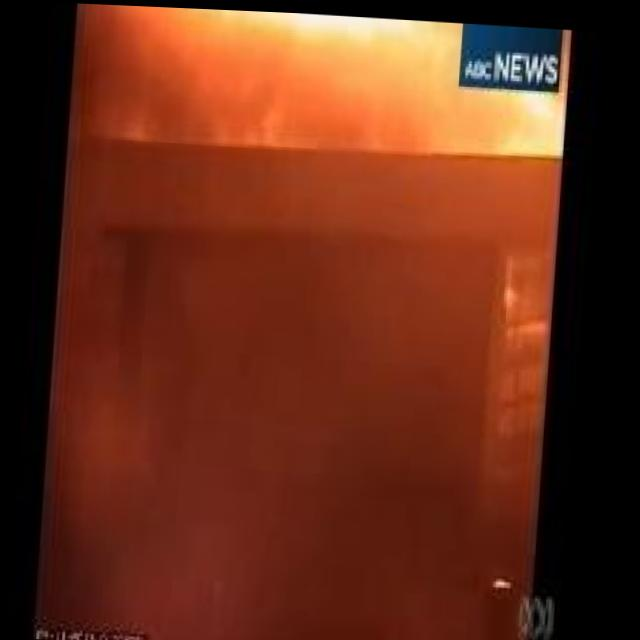fire: (101, 4, 460, 144), (463, 82, 570, 162)
